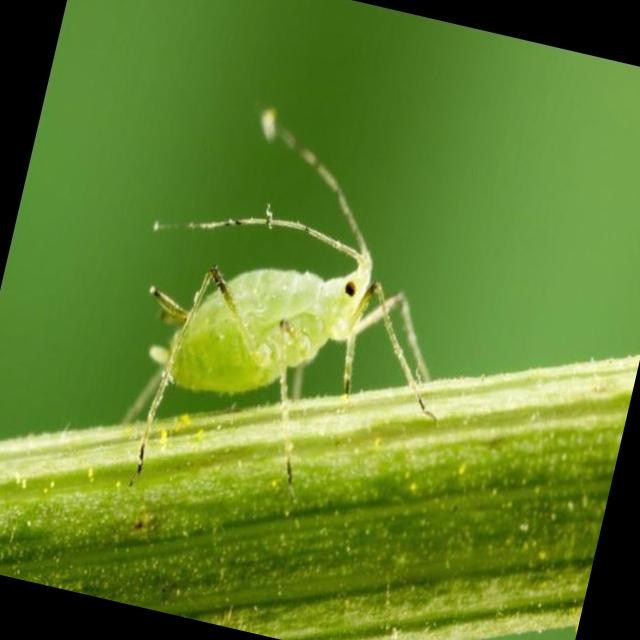aphid: (68, 32, 529, 558)
